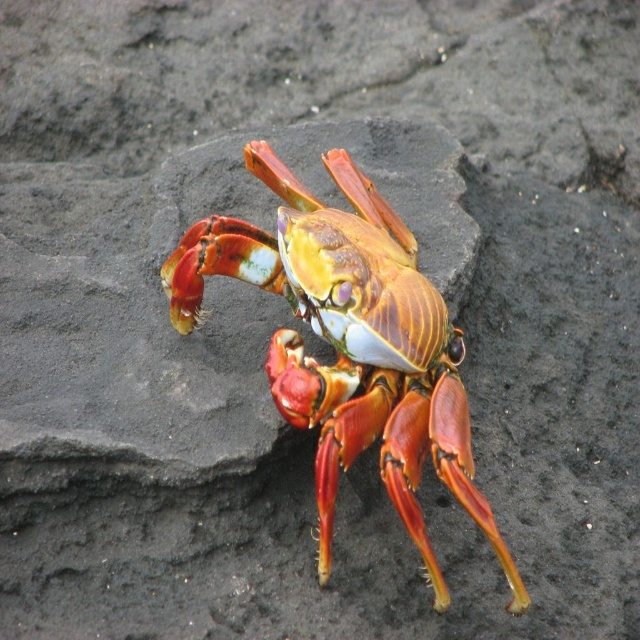Crab: (162, 138, 532, 614)
